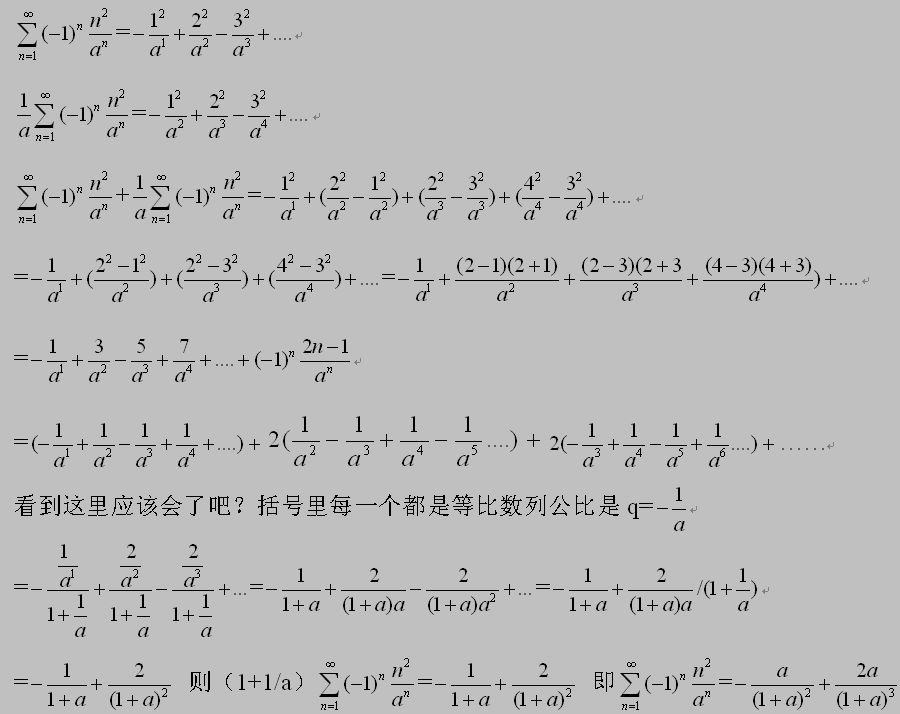cube: (210, 281, 224, 298), (629, 279, 642, 295), (239, 34, 255, 47), (590, 444, 602, 459), (142, 361, 153, 376), (144, 445, 156, 458), (885, 687, 900, 697), (217, 119, 230, 130), (361, 440, 369, 455), (434, 201, 445, 211), (479, 196, 485, 209), (195, 567, 199, 580)
division: (451, 275, 559, 284), (702, 277, 817, 285), (579, 276, 687, 284), (339, 586, 403, 596), (276, 275, 335, 284), (298, 356, 351, 365), (94, 277, 146, 283), (294, 437, 316, 444)
square: (96, 361, 108, 375), (308, 444, 318, 457), (510, 281, 520, 293), (488, 593, 497, 603), (803, 688, 811, 699), (132, 568, 140, 578), (707, 654, 711, 671)
